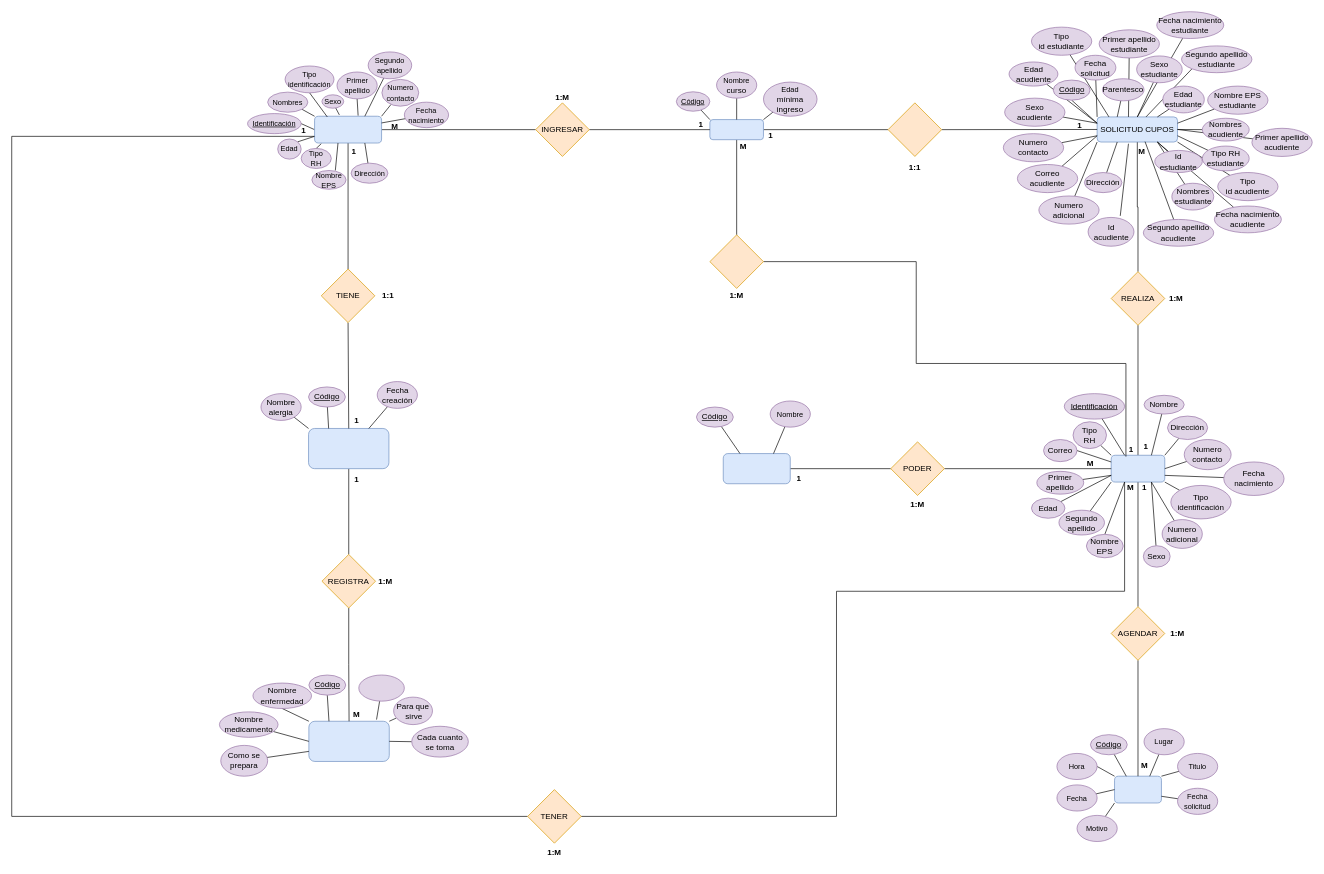
Some shapes in this 1324 by 874 pixel diagram are drawn without their labels. Each missing label, with the box of its shape:
ALMACENA: (887, 102, 942, 156)
CITACION: (1114, 776, 1161, 803)
Como se toma: (358, 674, 404, 701)
CONSULTAR: (709, 234, 763, 288)
CURSO: (709, 119, 763, 140)
ESTUDIANTES: (314, 116, 382, 143)
MEDICAMENTO: (308, 721, 389, 761)
OBSERVACIONES CLINICAS: (308, 428, 389, 469)
TIPO USUARIO: (723, 453, 790, 484)
USUARIOS: (1111, 455, 1165, 482)
